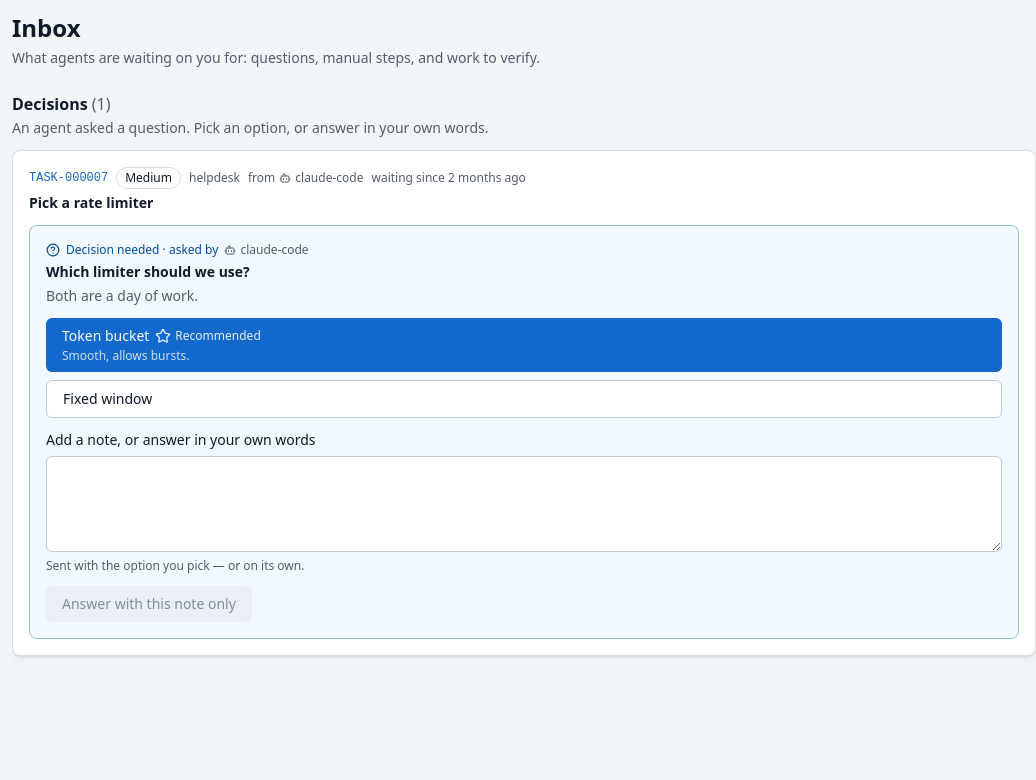
Test case: InboxPage — decisions › keeps the note and says why when the decision was already answered
Expected: the heading "Which limiter should we use?" is shown, [46,262,250,281]
Type "Token bucket, please." into the text box labelled "Add a note, or answer in your own words" at (524, 504), box [46,456,1002,552]
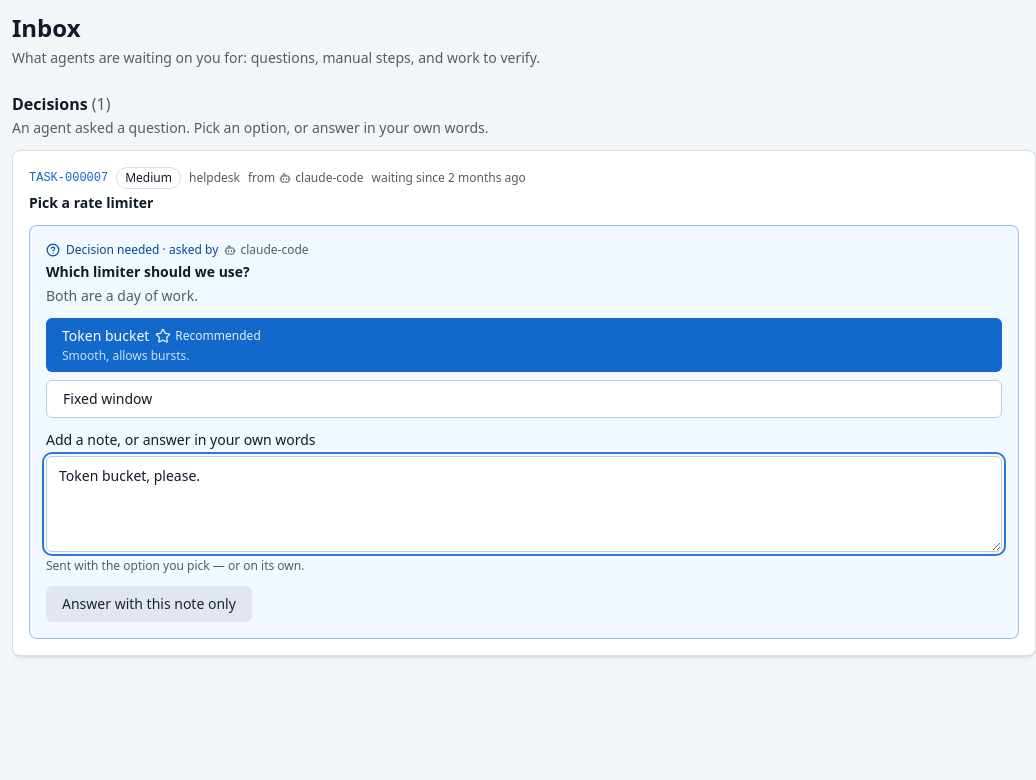
Click the button "Token bucket Recommended Smooth, allows bursts." at (106, 336), box [46,318,1002,372]
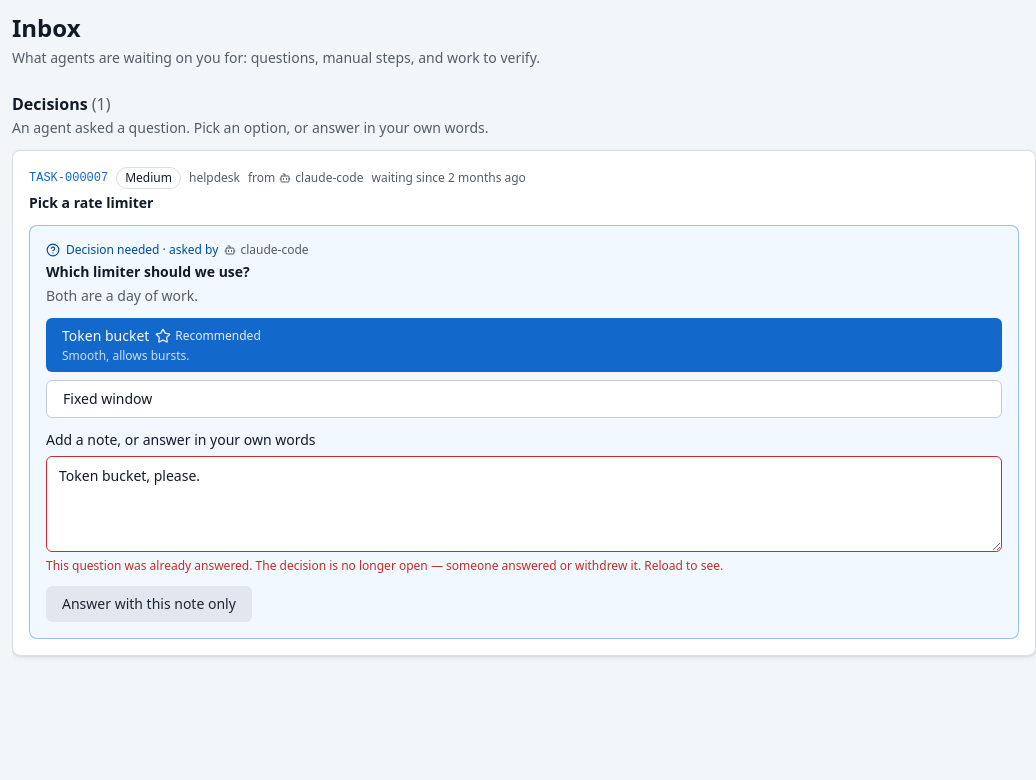
Now the text "This question was already answered" is shown, box [46,557,723,574]
